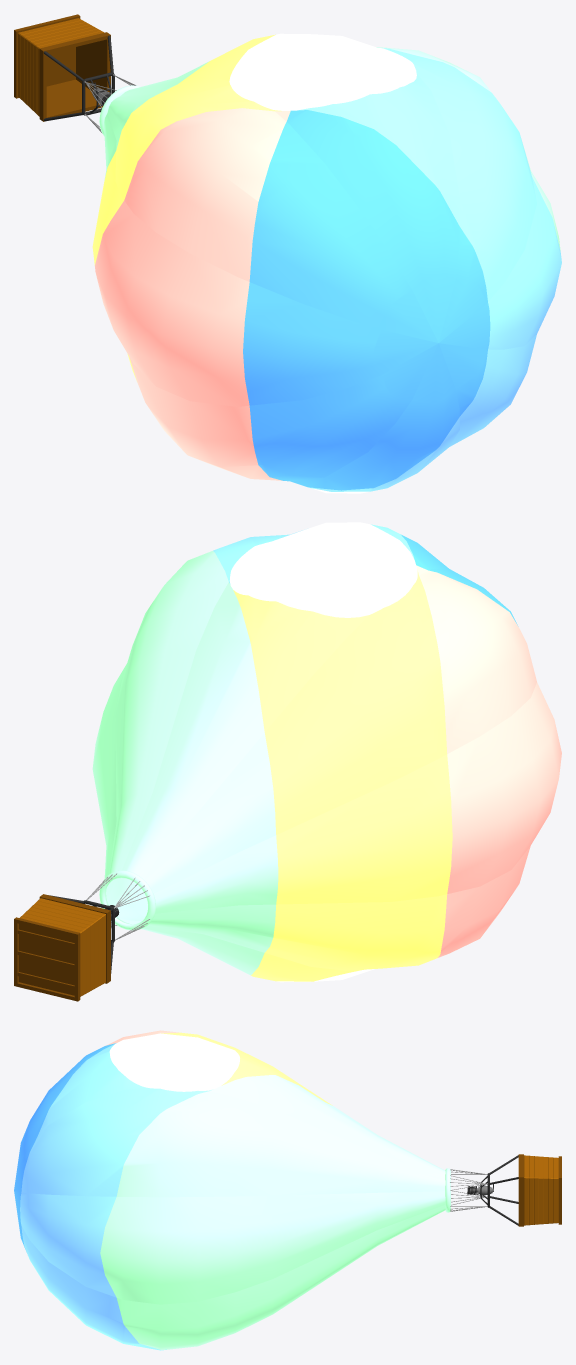
Rendered from balloon.glb.
The picture shows the model from 3 angles, top to bottom: view 1: azimuth 30°, elevation 25°; view 2: azimuth 150°, elevation 25°; view 3: azimuth 270°, elevation 25°; orthographic projection. The views are drawn at different scales.
Visible parts, largest first — view 1: hull.006, basket.006; view 2: hull.006, basket.006; view 3: hull.006, basket.006, cables.006.
Part boxes in pixels (x1,y1,x2,y2): hull.006: (92, 33, 561, 493); basket.006: (14, 14, 114, 121); hull.006: (92, 522, 561, 982); basket.006: (14, 894, 114, 1001); hull.006: (14, 1030, 450, 1350); basket.006: (487, 1154, 561, 1226); cables.006: (450, 1169, 487, 1211).
Bounding box in the file's own units: 18.44 × 18.44 × 30.28.
Materials: 8 (2 with a texture image).
